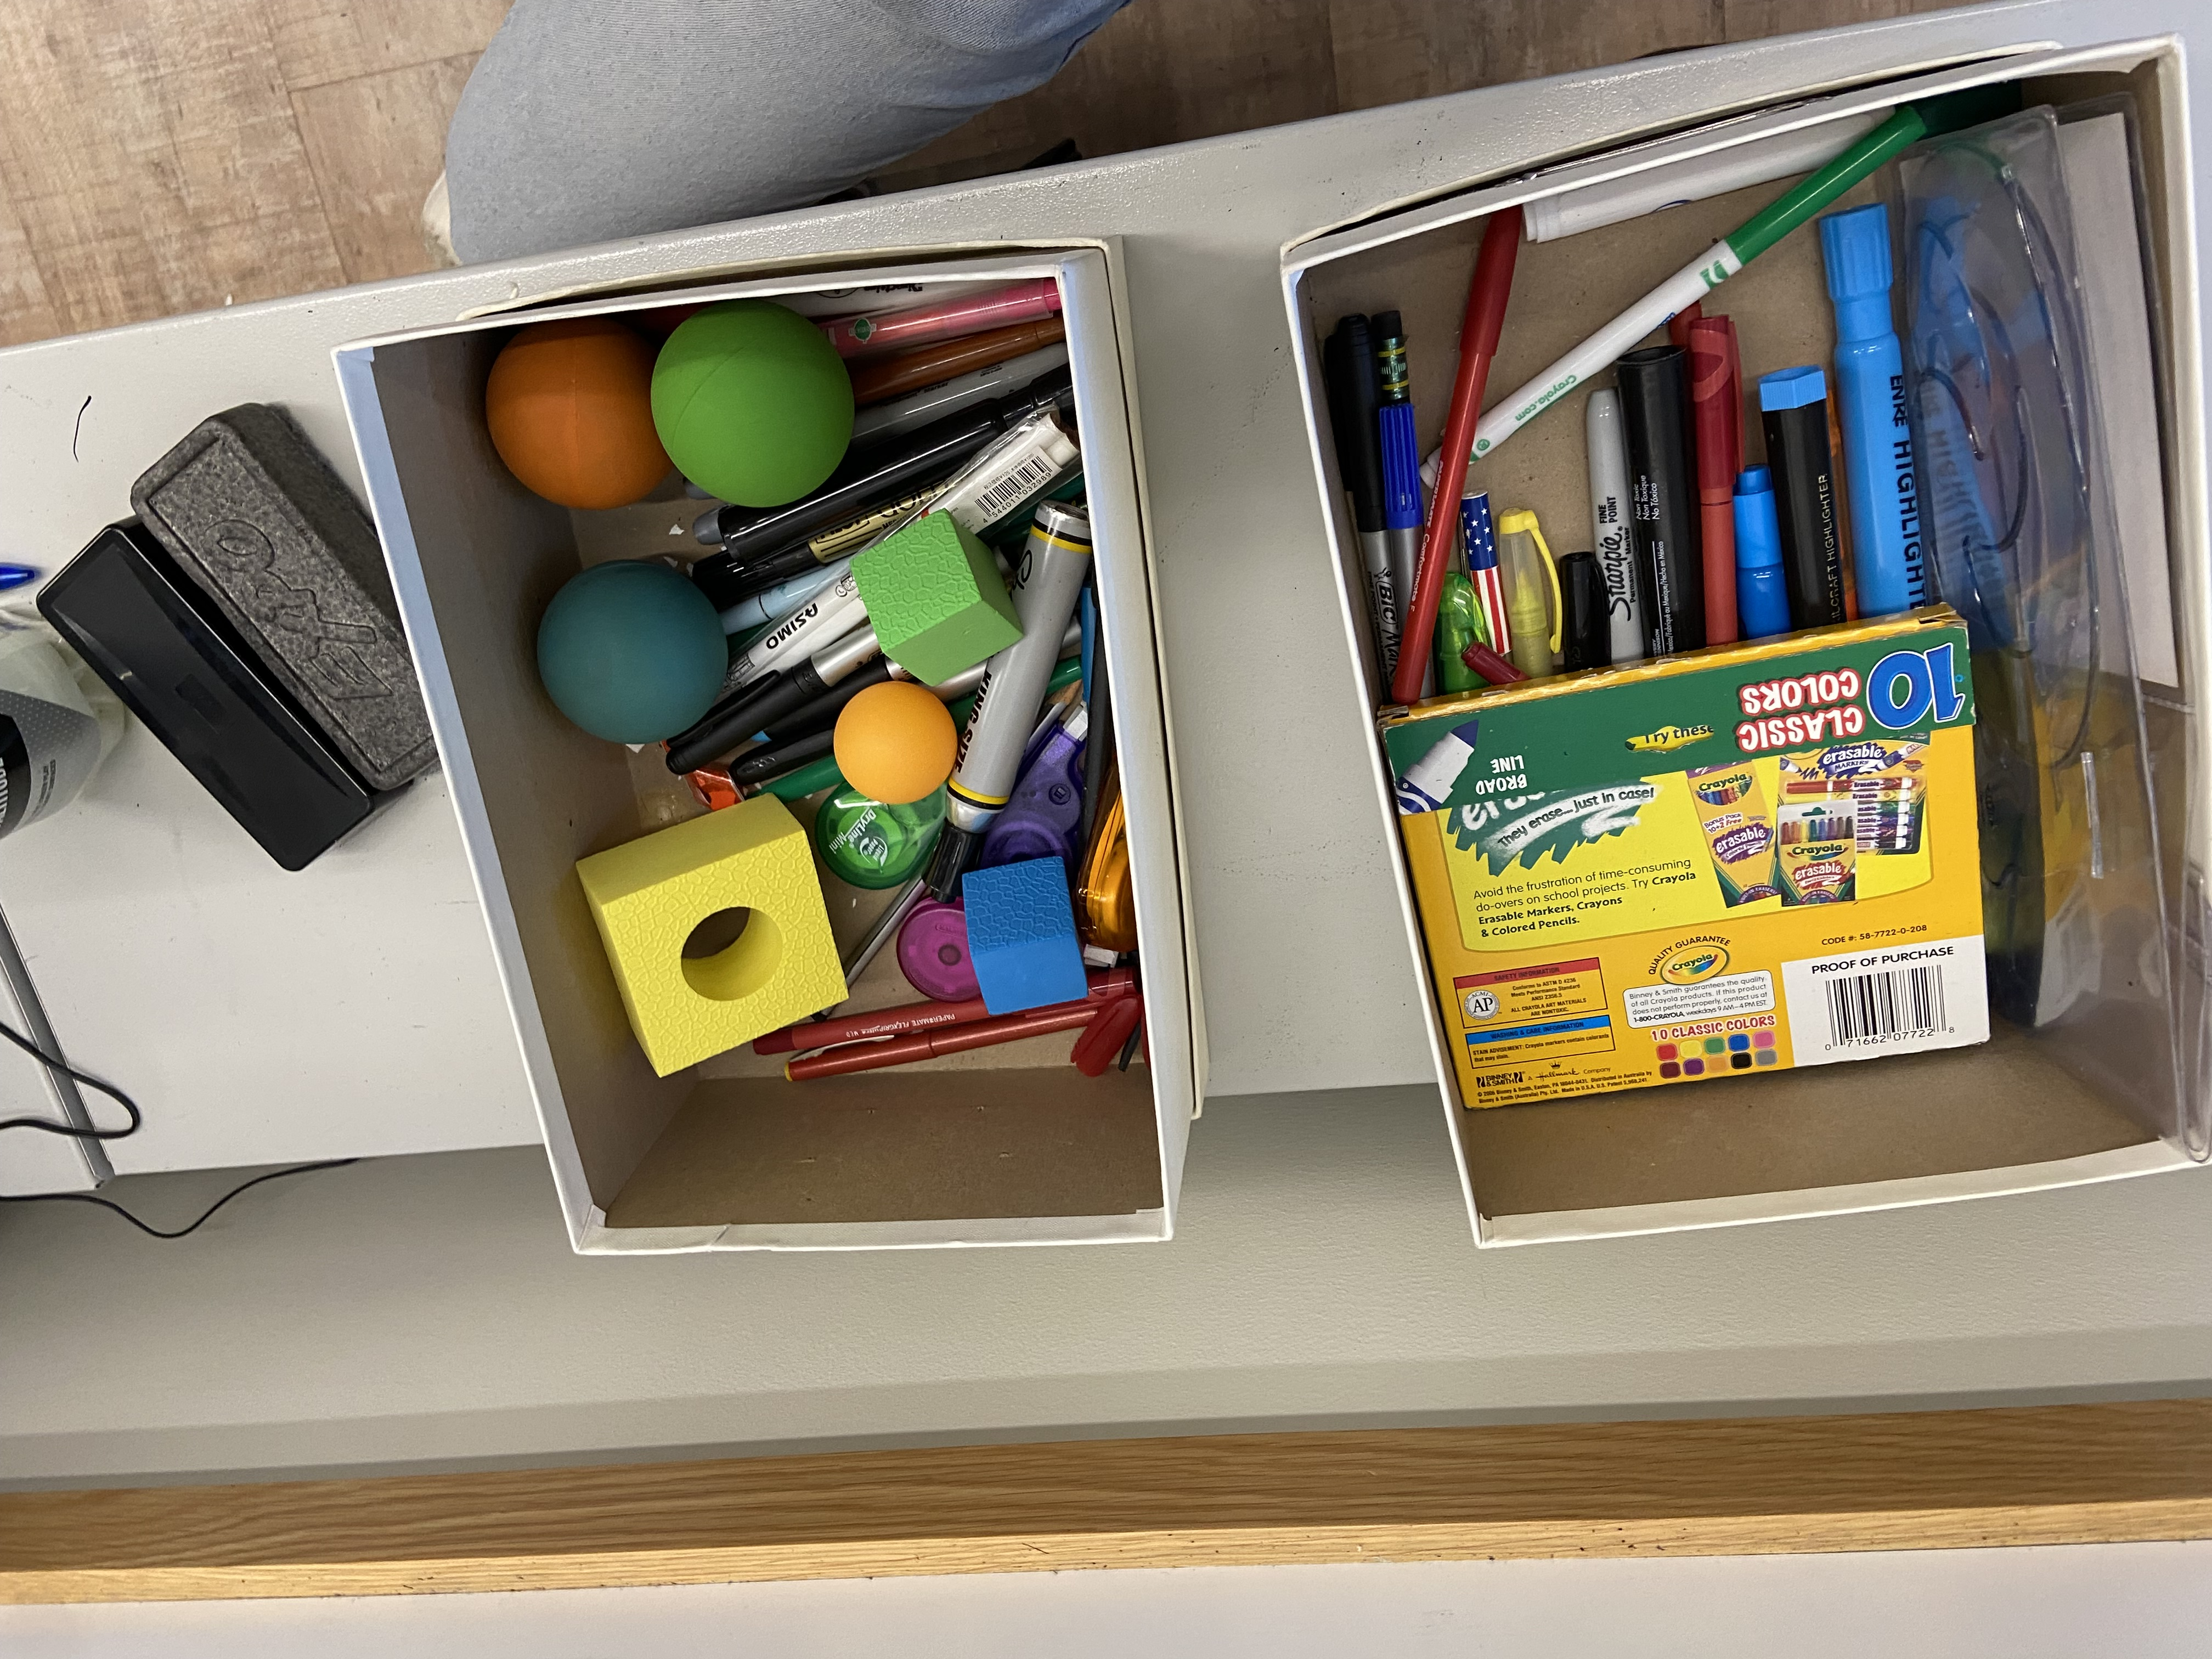Cube: (643, 314, 853, 502), (533, 565, 726, 744), (488, 331, 662, 511), (834, 678, 960, 800)
ball: (852, 514, 1024, 685), (958, 864, 1083, 1014)
